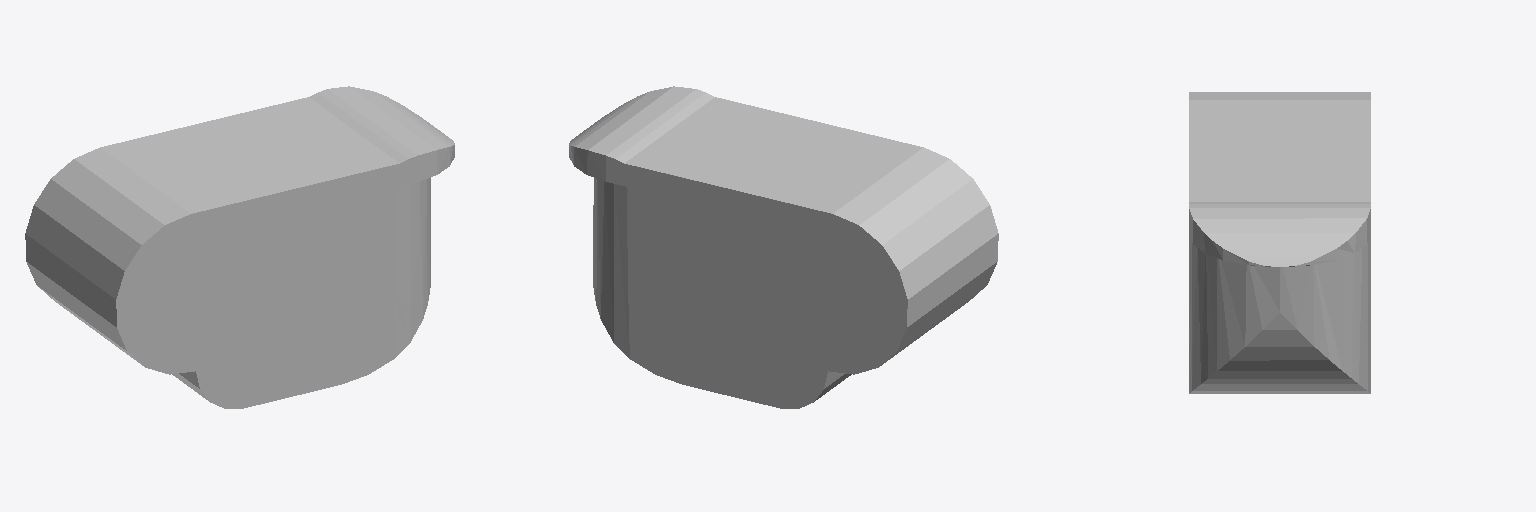
Rendered from ph_distal.obj.
3 views of the same model, side by side, from view 1: azimuth 30°, elevation 25°; view 2: azimuth 150°, elevation 25°; view 3: azimuth 270°, elevation 25° (orthographic).
Bounding box in the file's own units: 31.75 × 17.24 × 13.5.